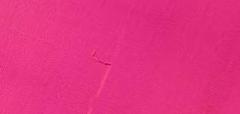snag: (85, 47, 117, 70)
